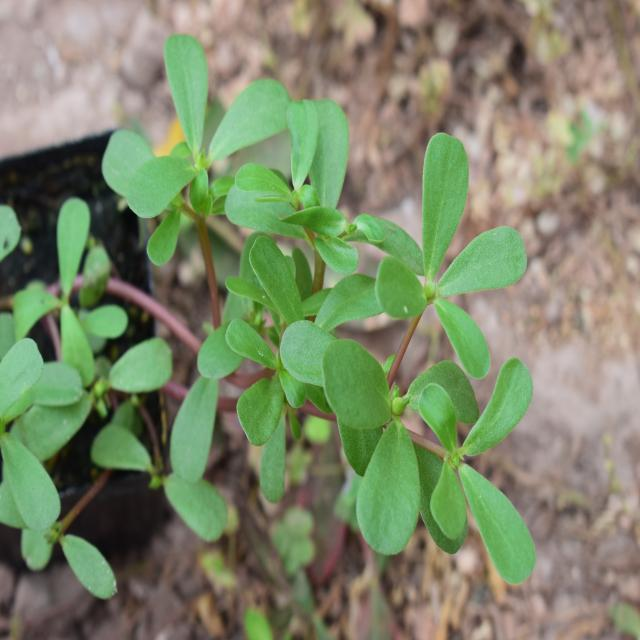purslane: (4, 48, 562, 586)
